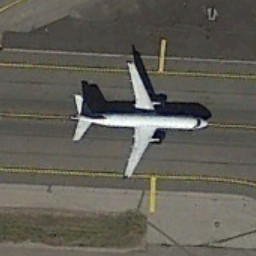Airplane: (66, 55, 214, 183)
